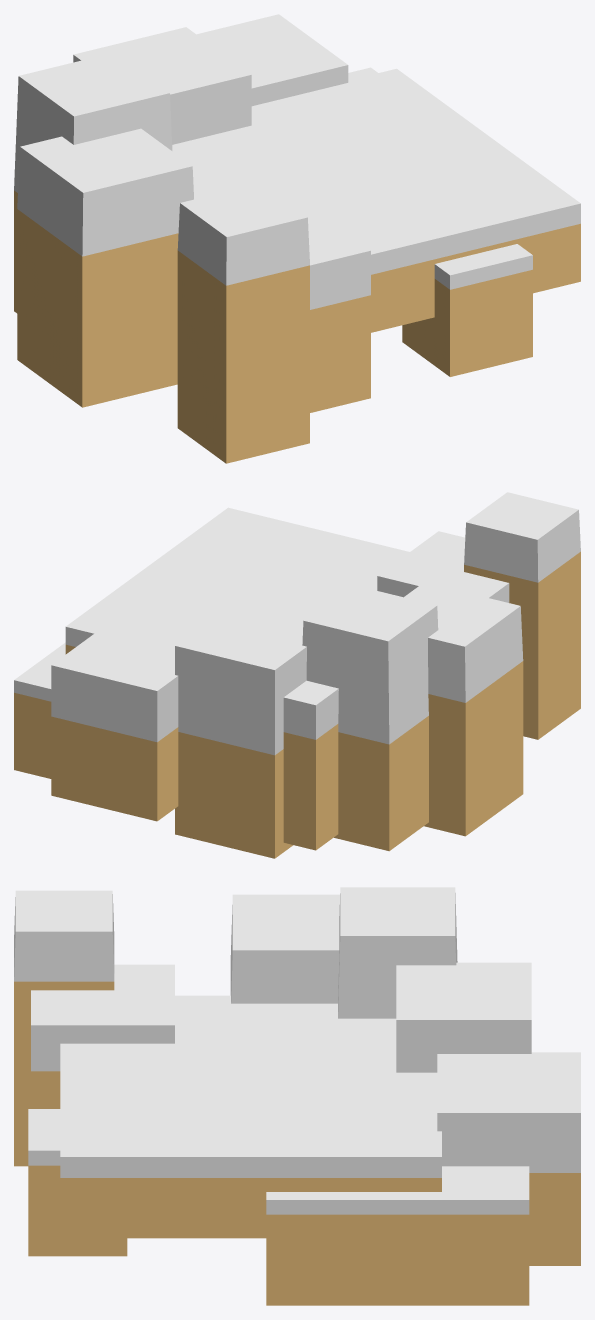
Rendered from fox-island.glb.
3 views of the same model, one above another, from view 1: azimuth 30°, elevation 25°; view 2: azimuth 150°, elevation 25°; view 3: azimuth 270°, elevation 25° (orthographic). The views are drawn at different scales.
Visible parts, largest first — view 1: Cube; view 2: Cube; view 3: Cube.
Part boxes in pixels (x1,y1,x2,y2): Cube: [14, 14, 580, 463]; Cube: [14, 492, 580, 858]; Cube: [14, 887, 580, 1305].
Size of the model in its own units: 18.98 by 10.13 by 20.8.
